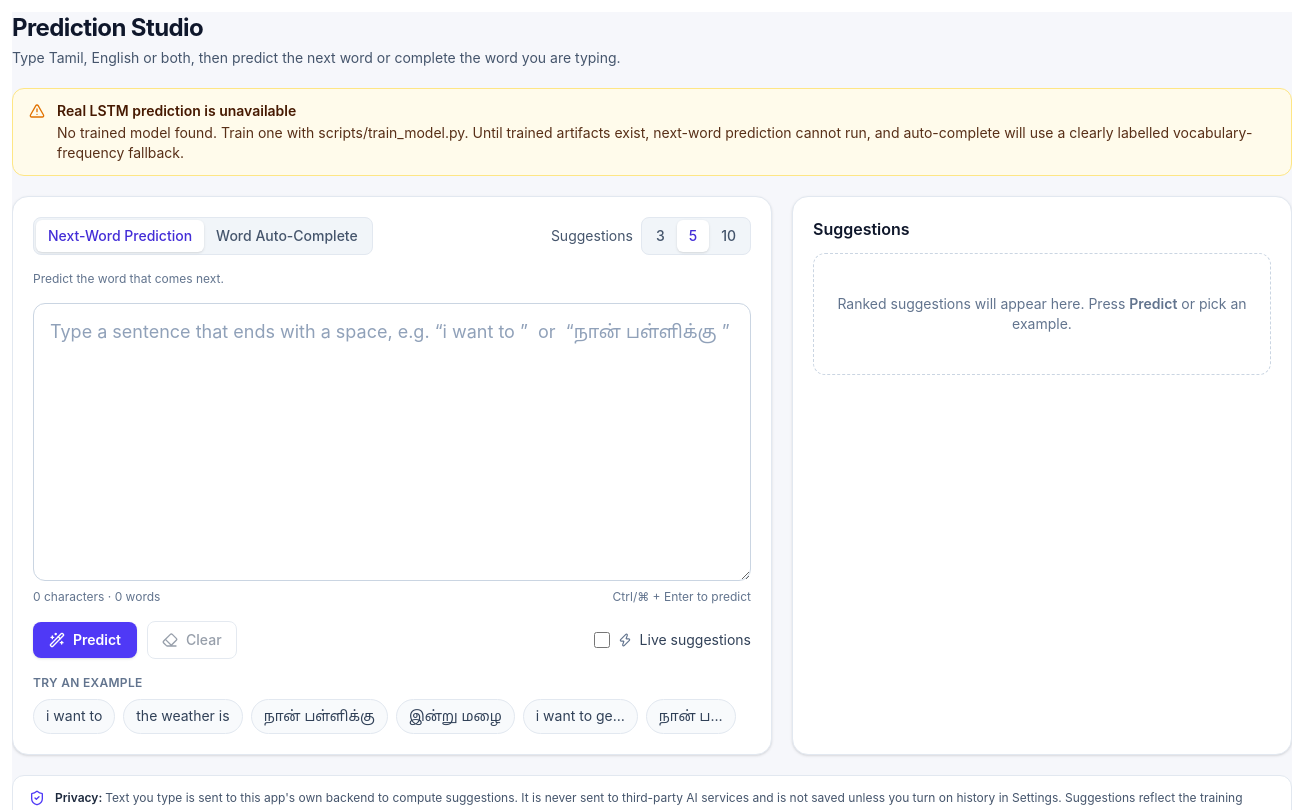
it: Prediction Studio › labels fallback suggestions as not coming from the LSTM
The width and height of the screenshot is (1292, 810).
Click the text box named "Text to continue" at (392, 442), box left=33, top=303, right=751, bottom=581
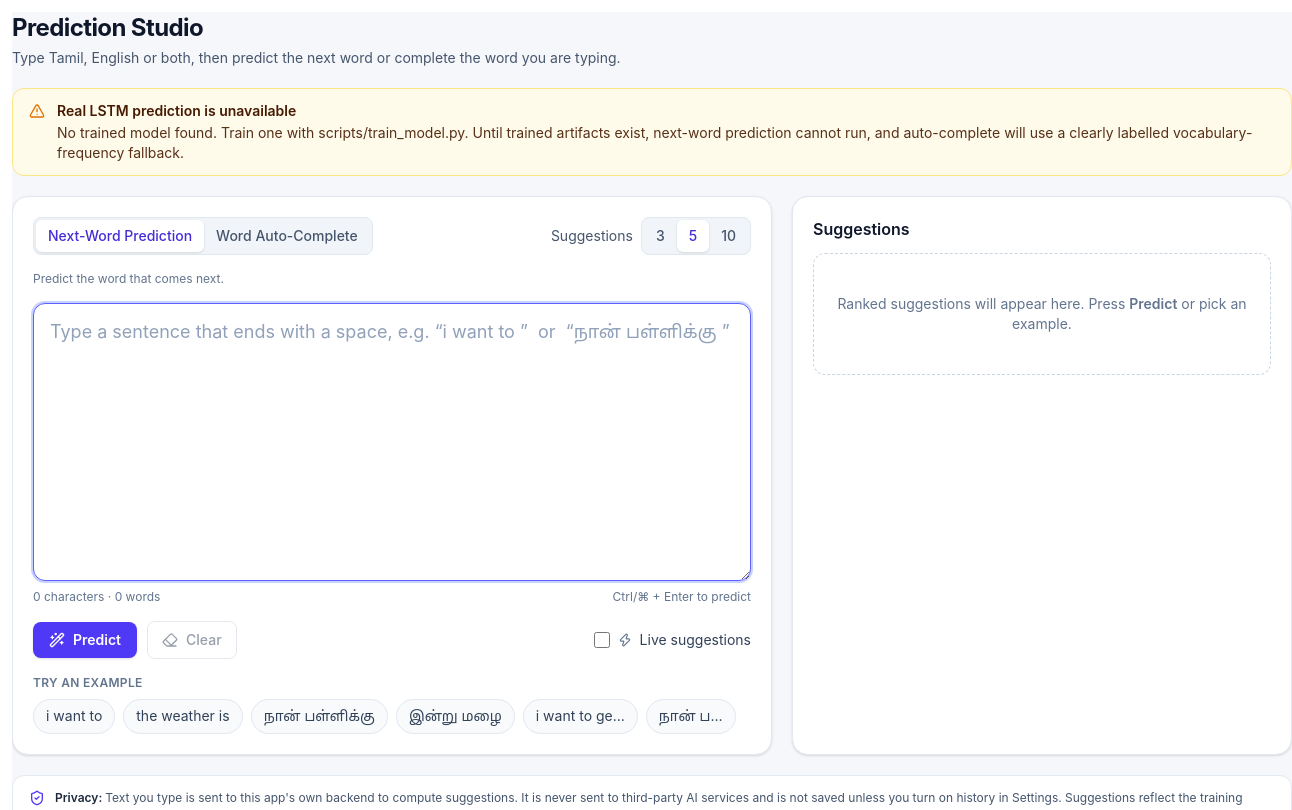
Type keys "i want to g"
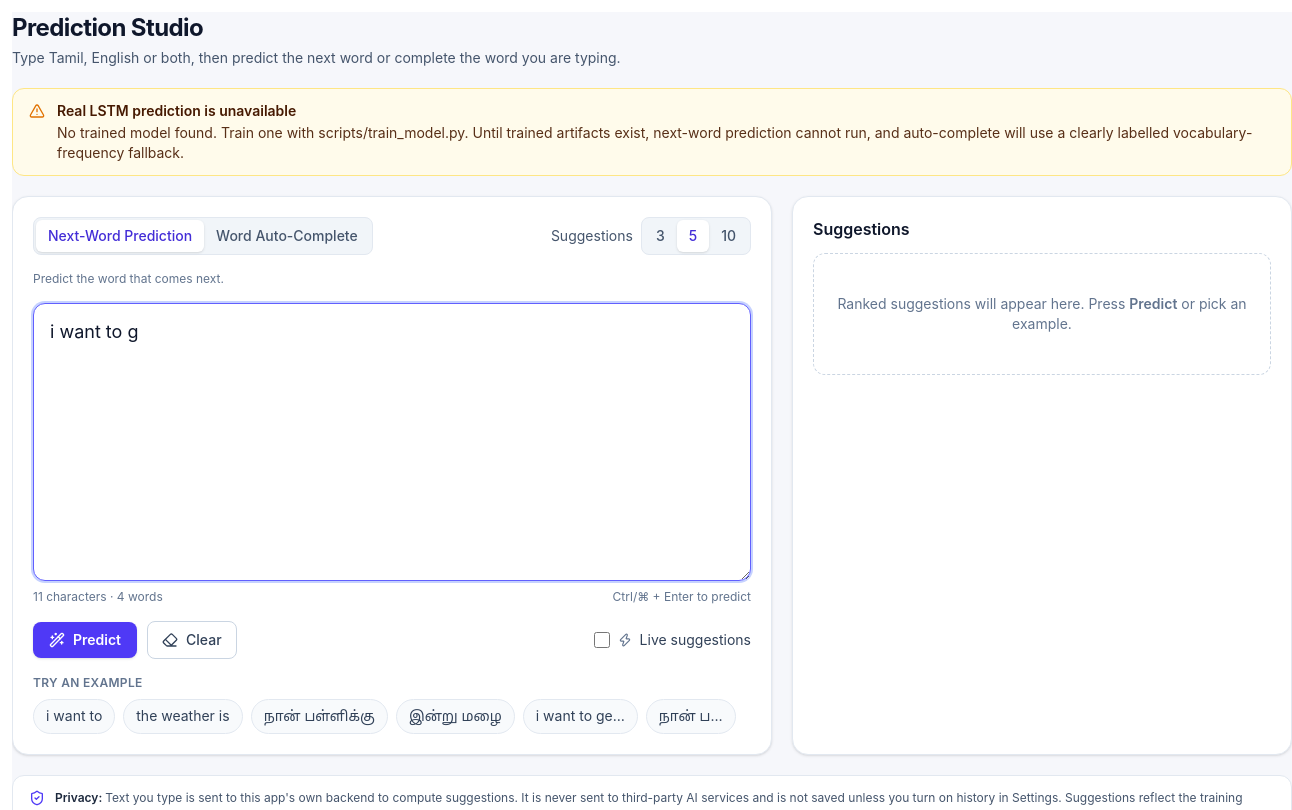
Click the radio button labelled "Word Auto-Complete" at (287, 236), box left=204, top=220, right=370, bottom=252
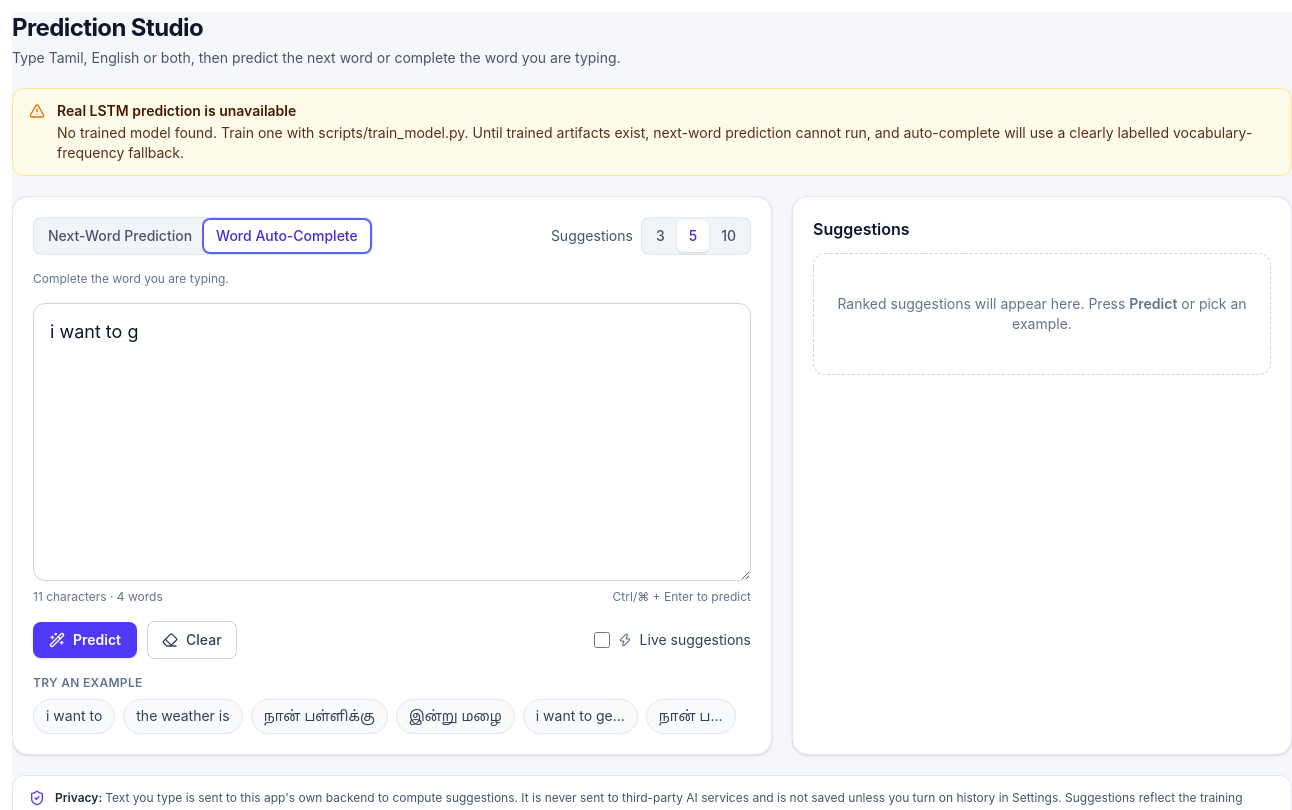
Click the button "Predict" at (85, 640), box left=33, top=622, right=137, bottom=658
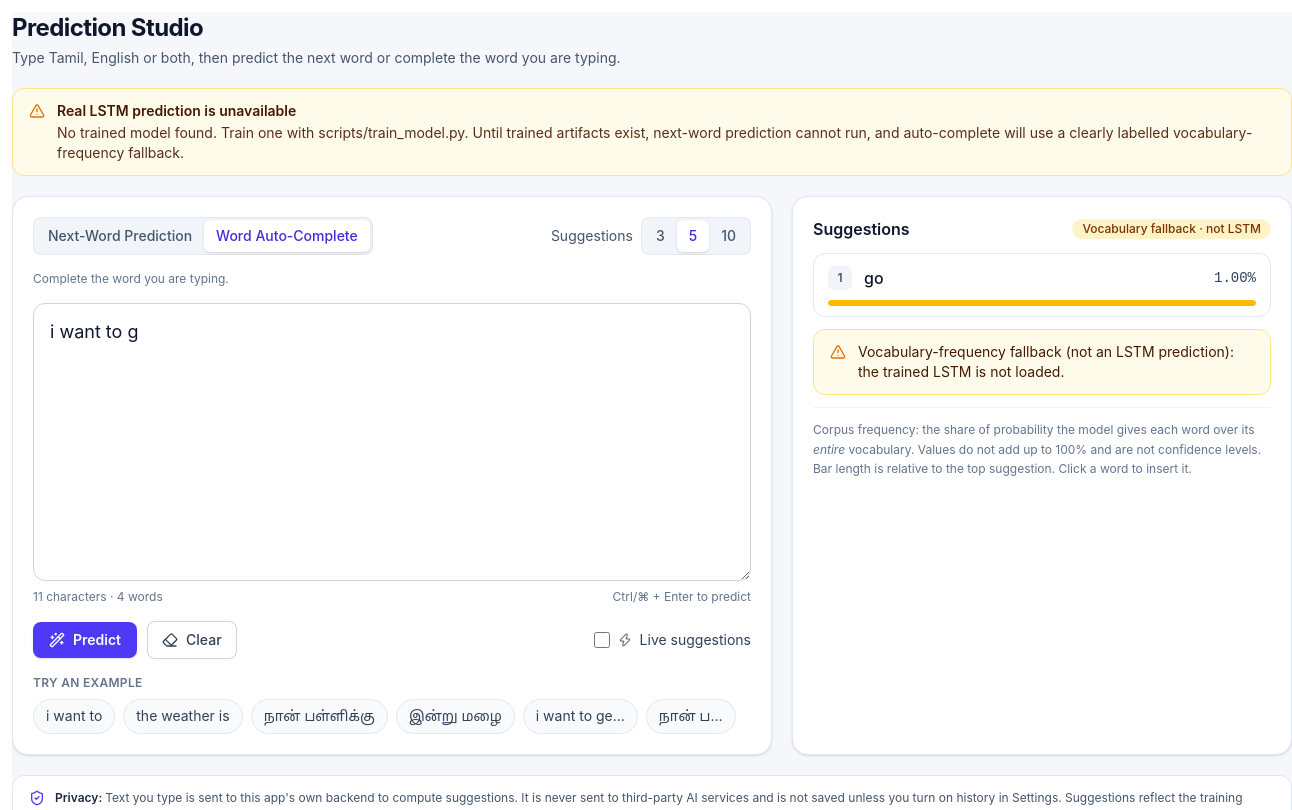
Check: the text "Vocabulary fallback · not LSTM" is shown, box left=1072, top=219, right=1271, bottom=239
Check: the text "not an LSTM prediction" is shown, box left=858, top=343, right=1234, bottom=380
